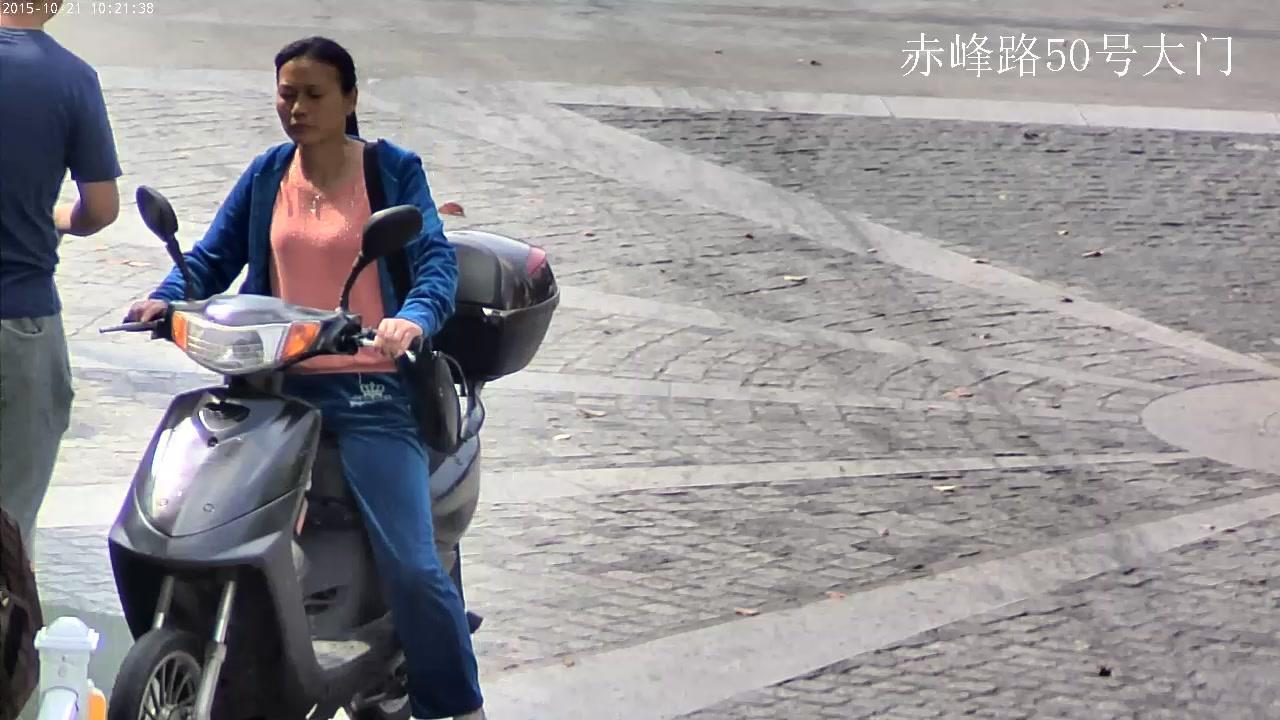person: (99, 37, 560, 720), (123, 37, 489, 720), (0, 0, 120, 571)
